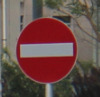no_entry: (16, 17, 77, 84)
